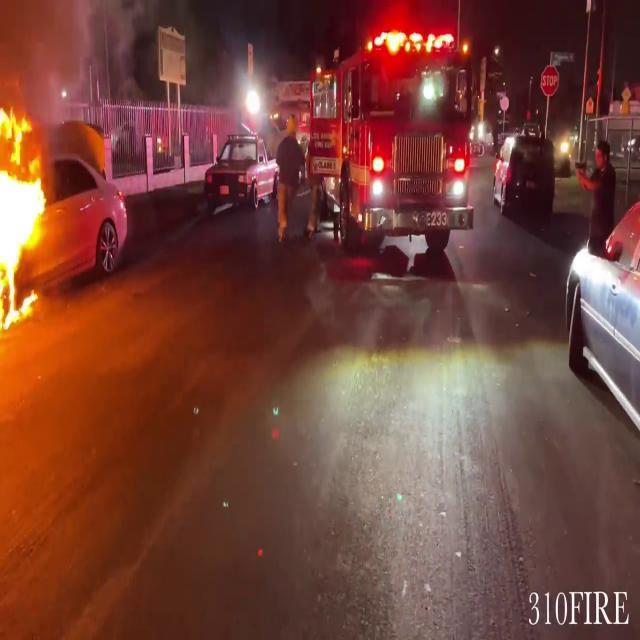Fire: (0, 97, 54, 334)
Smoke: (0, 0, 92, 117)
